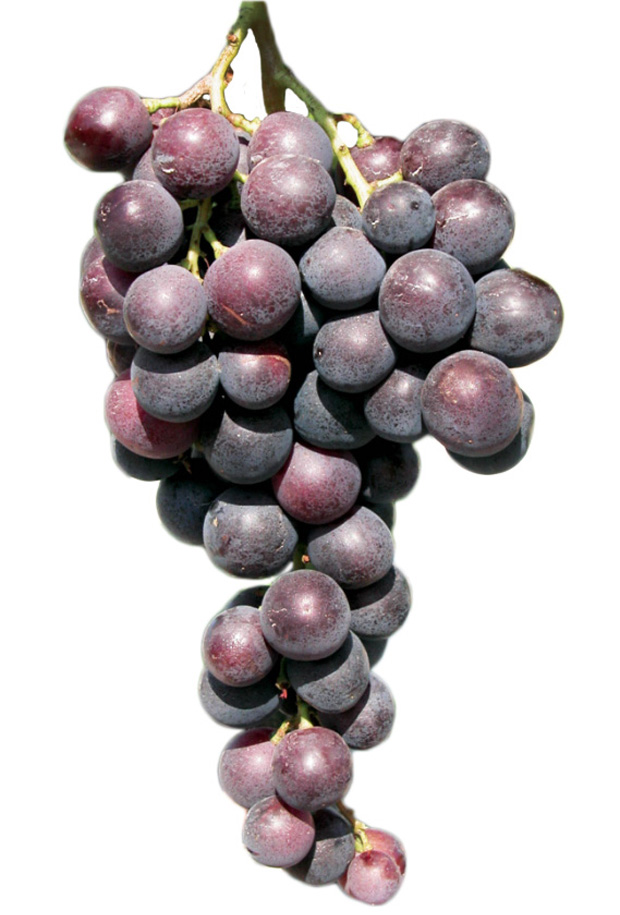Black grapes: (110, 104, 463, 915)
